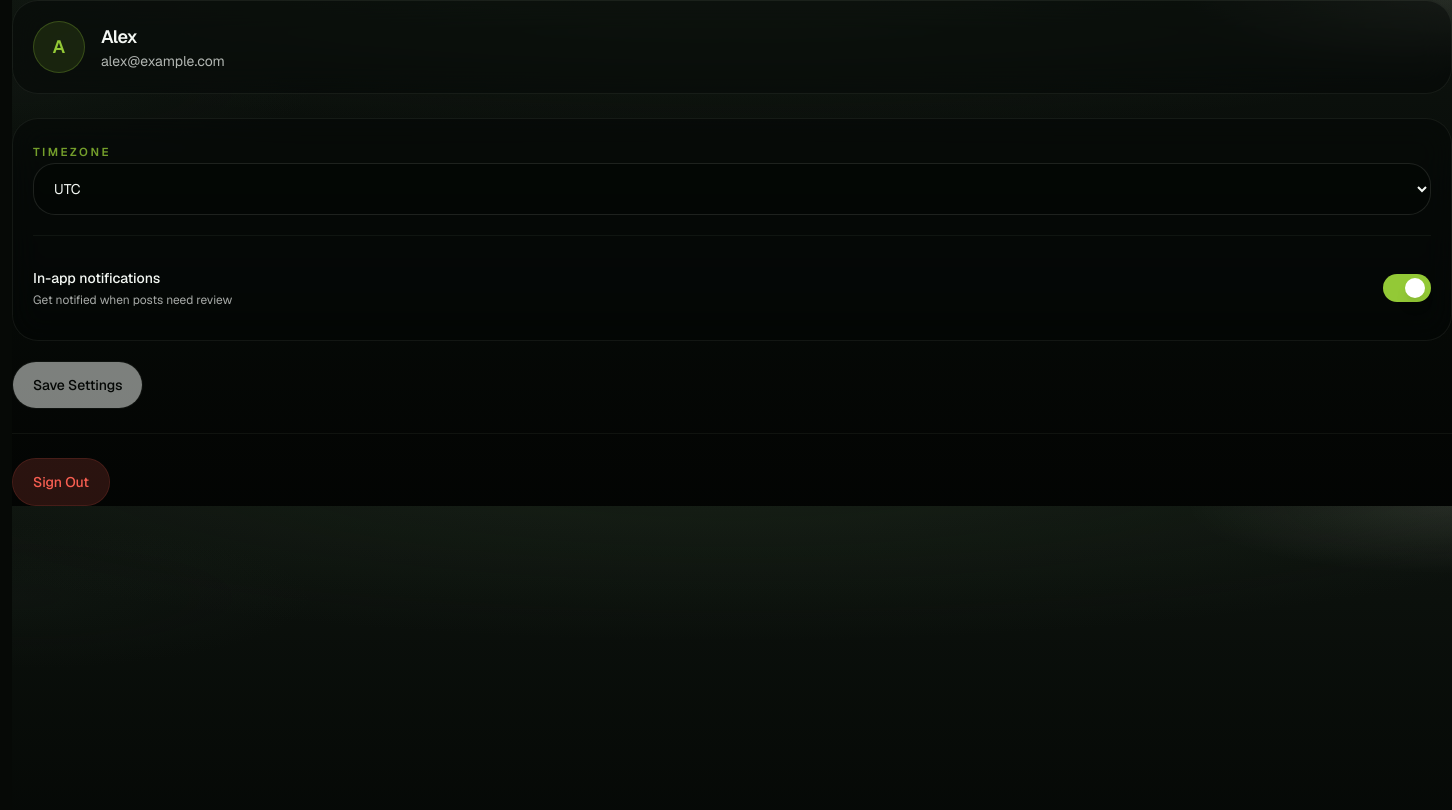
Scenario: SettingsForm › only enables save when settings have changed
Expected: the button "Save Settings" is disabled, [12,361,143,409]
Step 1. Click the switch → x=1407, y=288, box [1383,274,1431,302]
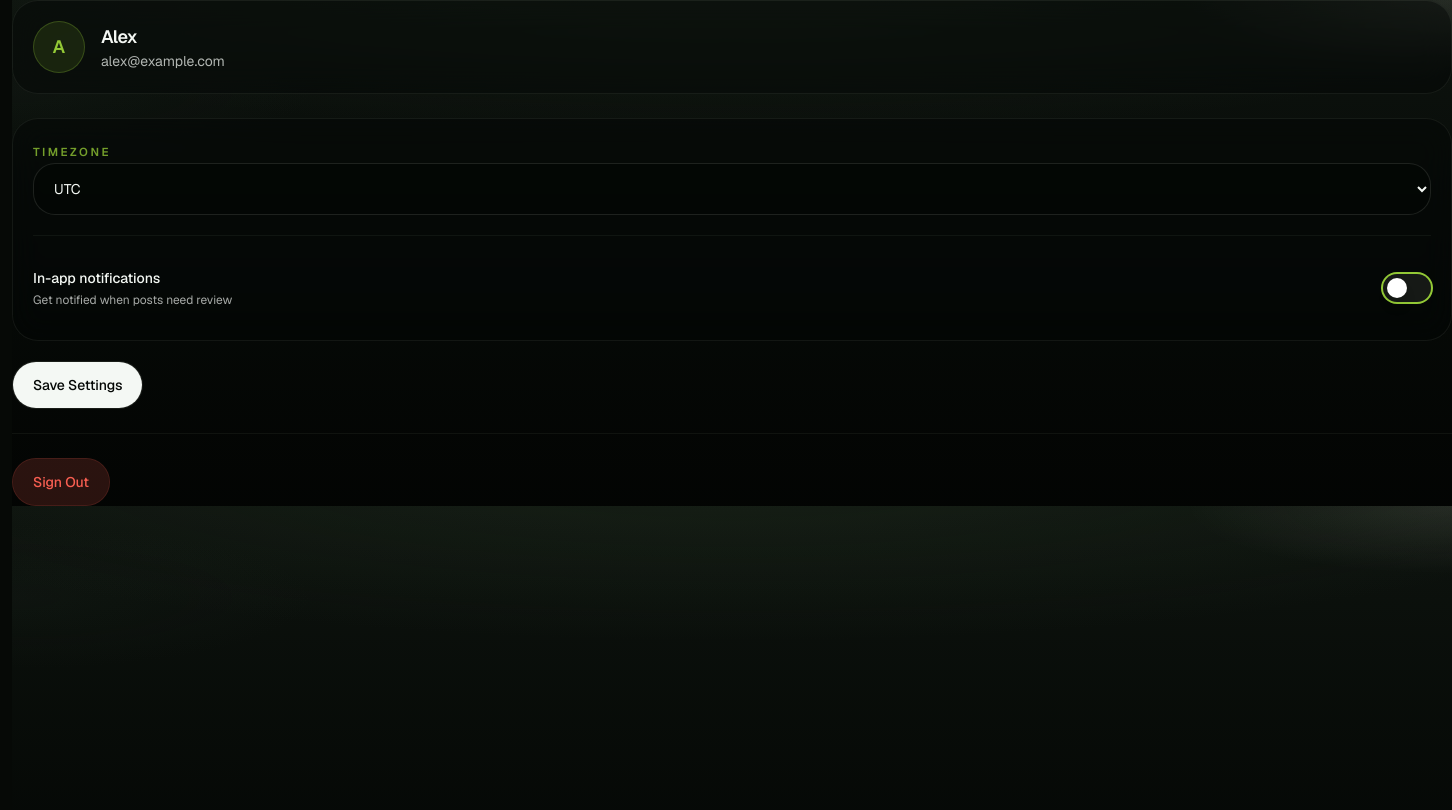
Result: the button "Save Settings" is enabled at [12,361,143,409]
Step 2. Click the switch → x=1407, y=288, box [1383,274,1431,302]
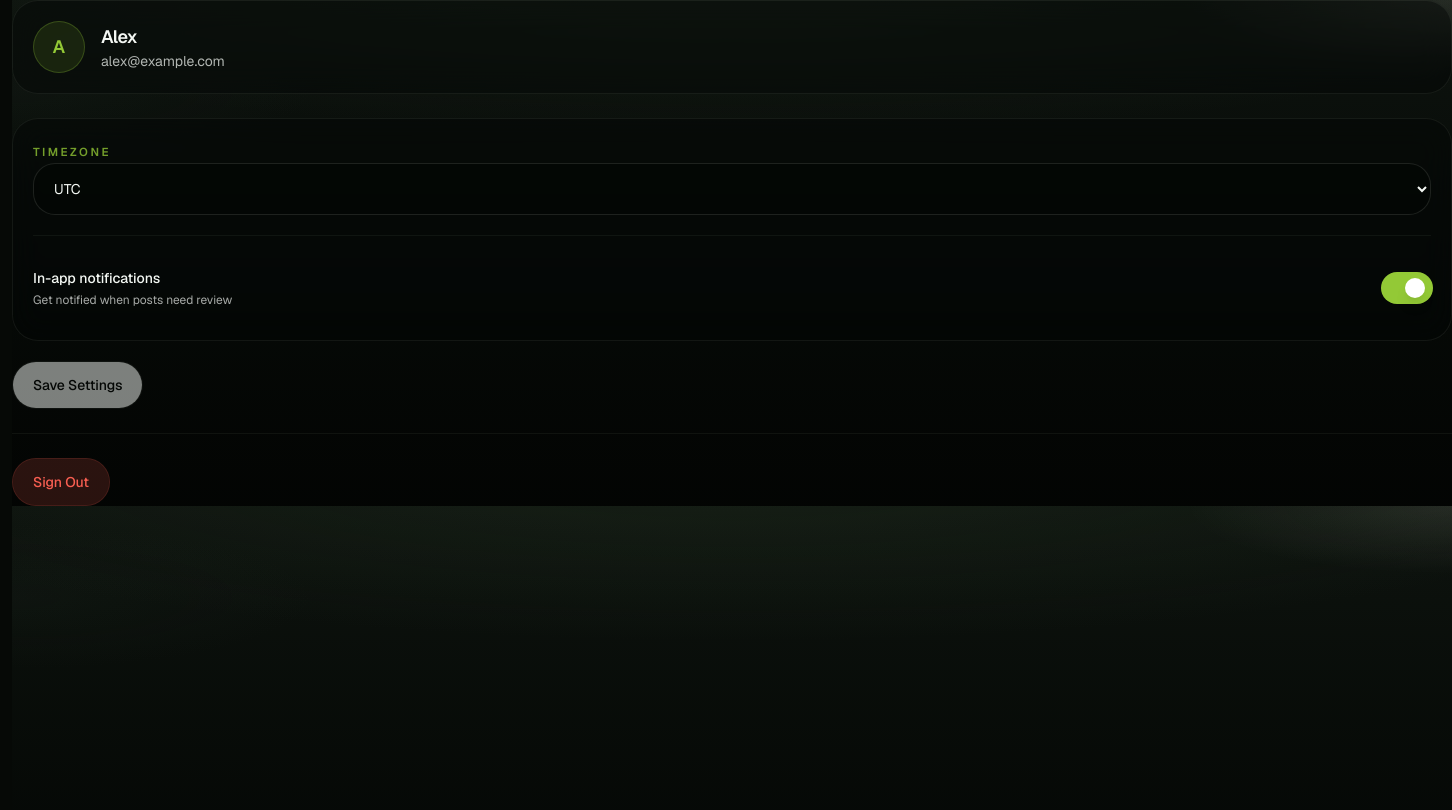
Result: the button "Save Settings" is disabled at [12,361,143,409]
